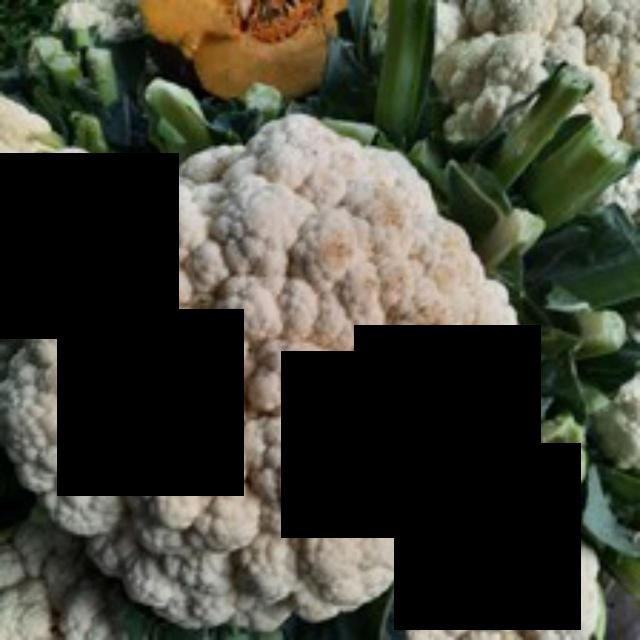cauliflower: (0, 108, 526, 637)
